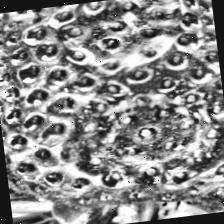Anthracnose Fruit Rot: (3, 0, 217, 186)
